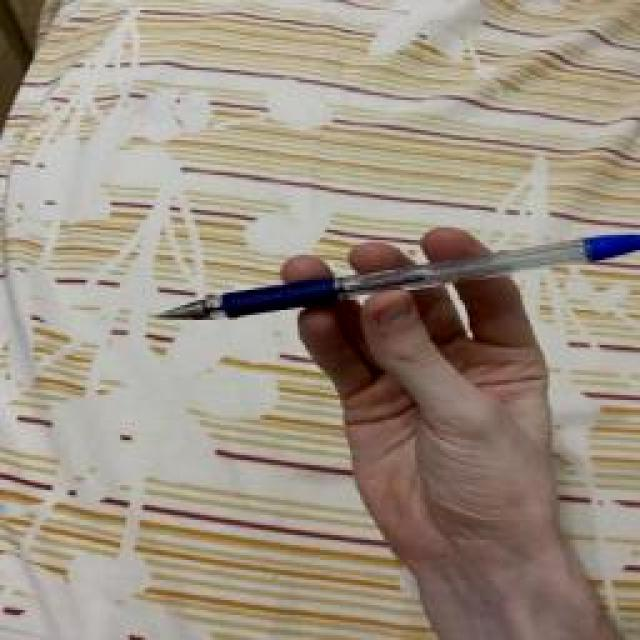pen: (407, 0, 640, 490)
